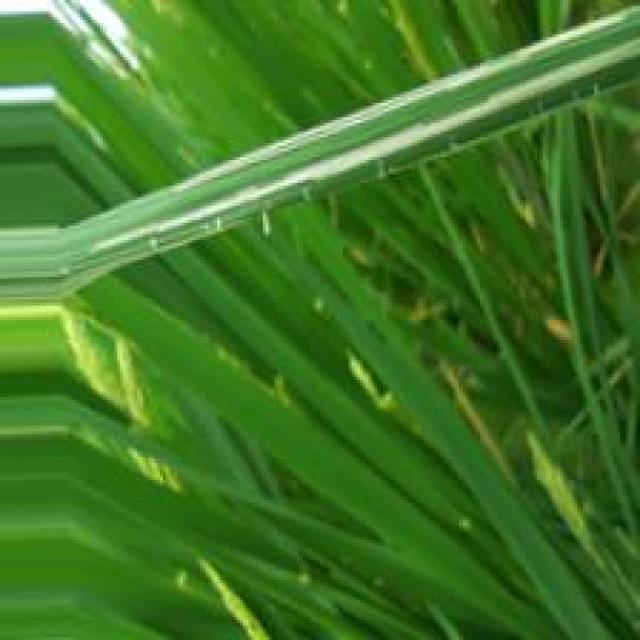Rice_Hispa: (182, 4, 640, 191), (150, 47, 630, 225)
